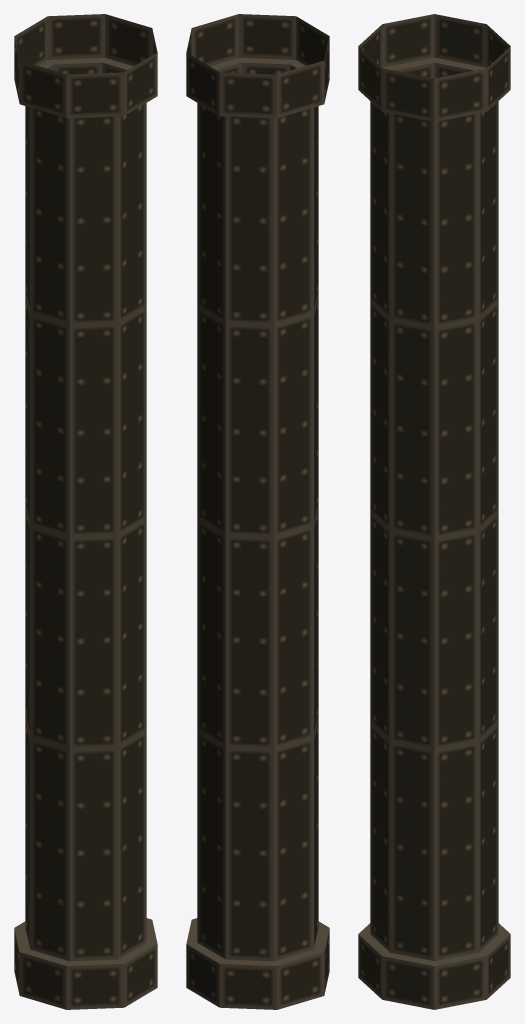
The model's file is Column.fbx.
The picture shows the model from 3 angles, left to right: view 1: azimuth 30°, elevation 25°; view 2: azimuth 150°, elevation 25°; view 3: azimuth 270°, elevation 25°; orthographic projection.
Visible parts, largest first — view 1: Column; view 2: Column; view 3: Column.
Boxes of the visible parts, left/top/right/bottom form: Column: left=14, top=14, right=157, bottom=1009; Column: left=186, top=14, right=329, bottom=1009; Column: left=358, top=14, right=510, bottom=1009.
Bounding box in the file's own units: 119 × 800 × 119.
